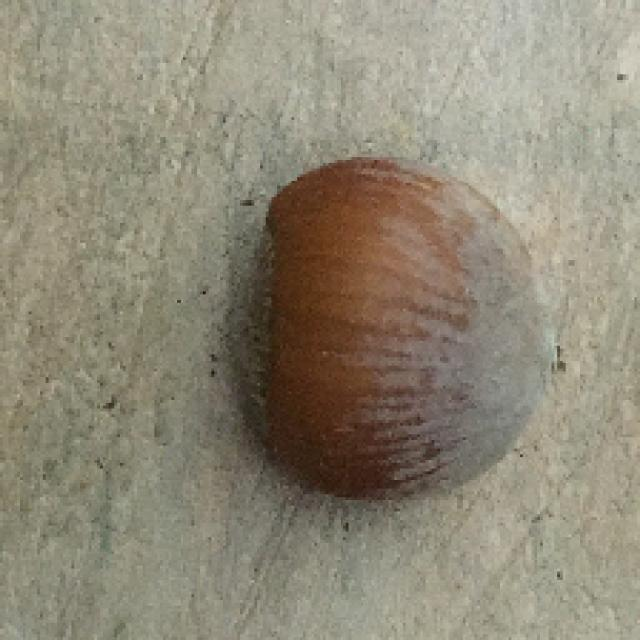qualityHazelnut: (233, 148, 546, 502)
